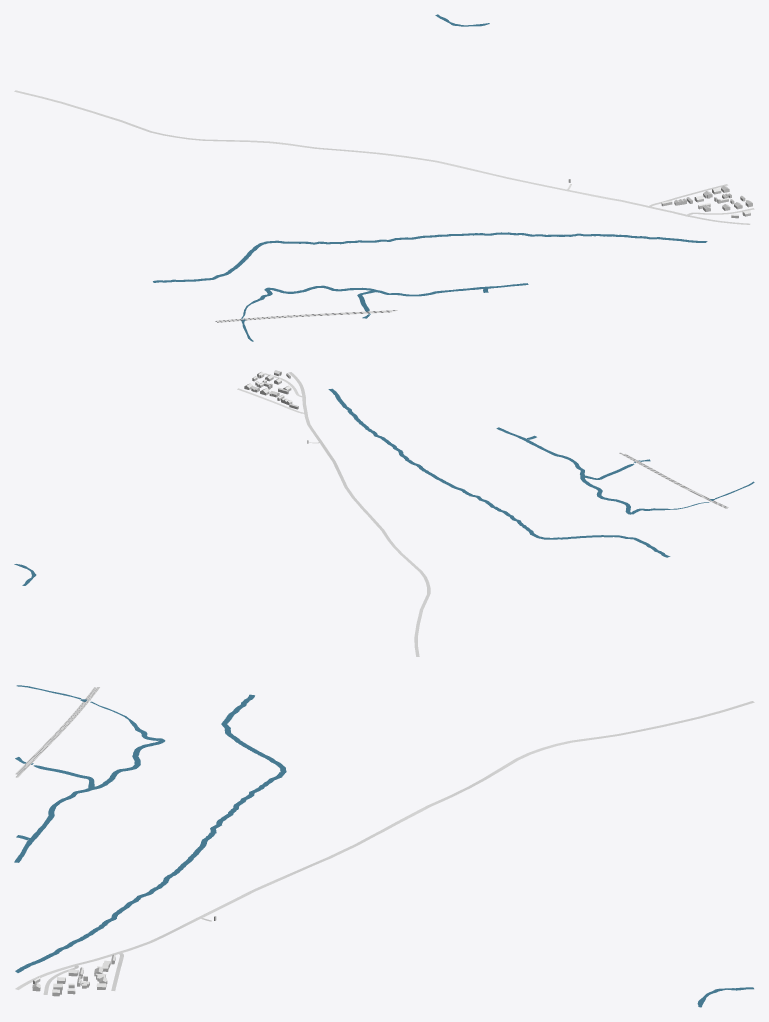
File: objekty.glb
3 renders of one model, top to bottom at view 1: azimuth 30°, elevation 25°; view 2: azimuth 150°, elevation 25°; view 3: azimuth 270°, elevation 25°, orthographic. The views are drawn at different scales.
Parts seen in each view (by area): view 1: Voda_06_09, Cesty_06_09, Budovy_06_09; view 2: Voda_06_09, Cesty_06_09, Budovy_06_09; view 3: Voda_06_09, Cesty_06_09, Budovy_06_09.
Part boxes in pixels (x1=…): Voda_06_09: x1=153, y1=14, x2=707, y2=341; Cesty_06_09: x1=14, y1=90, x2=754, y2=322; Budovy_06_09: x1=568, y1=179, x2=752, y2=218; Voda_06_09: x1=14, y1=388, x2=754, y2=585; Cesty_06_09: x1=237, y1=372, x2=728, y2=656; Budovy_06_09: x1=244, y1=370, x2=308, y2=443; Voda_06_09: x1=14, y1=685, x2=753, y2=1007; Cesty_06_09: x1=15, y1=687, x2=754, y2=994; Budovy_06_09: x1=32, y1=916, x2=216, y2=996.
Size of the model in its own units: 1006 by 51.92 by 1008.
